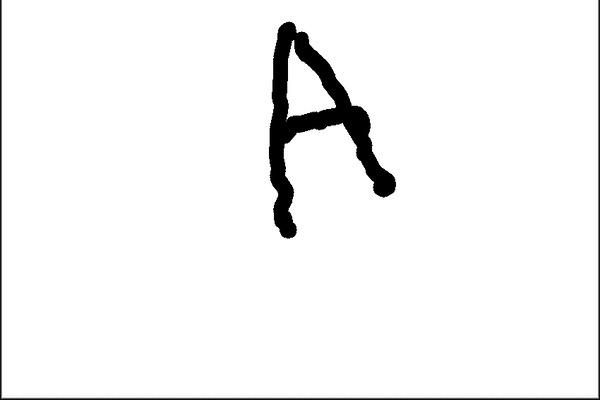A: (255, 15, 403, 251)
